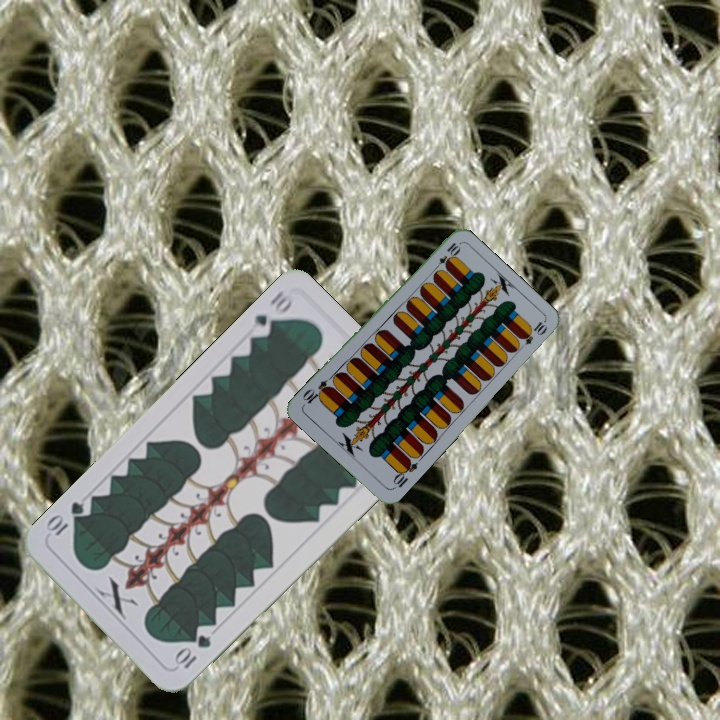E10: (430, 238, 462, 274), (389, 455, 420, 492)
G10: (250, 286, 295, 341), (170, 630, 214, 672)
